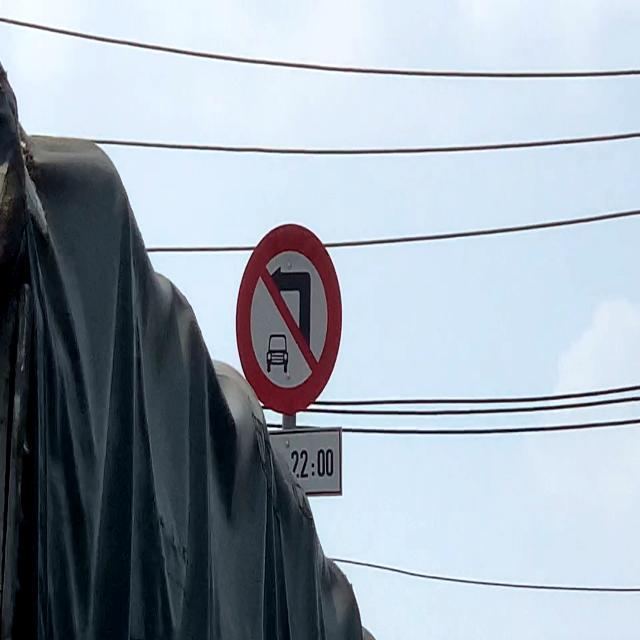123a-cam-re-trai: (232, 222, 348, 402)
